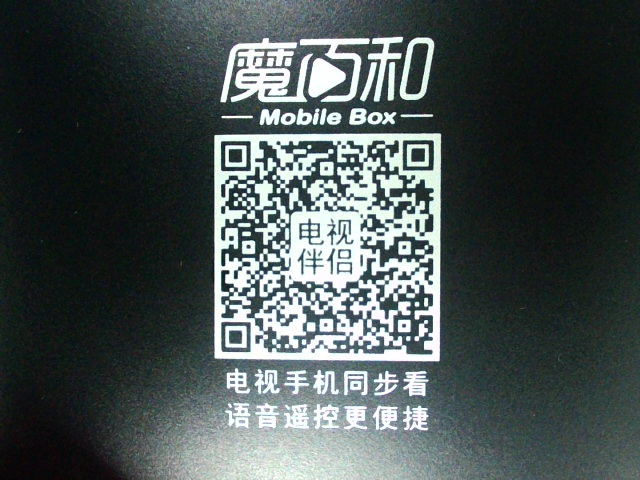AZ_MobileBox: (199, 36, 446, 431)
